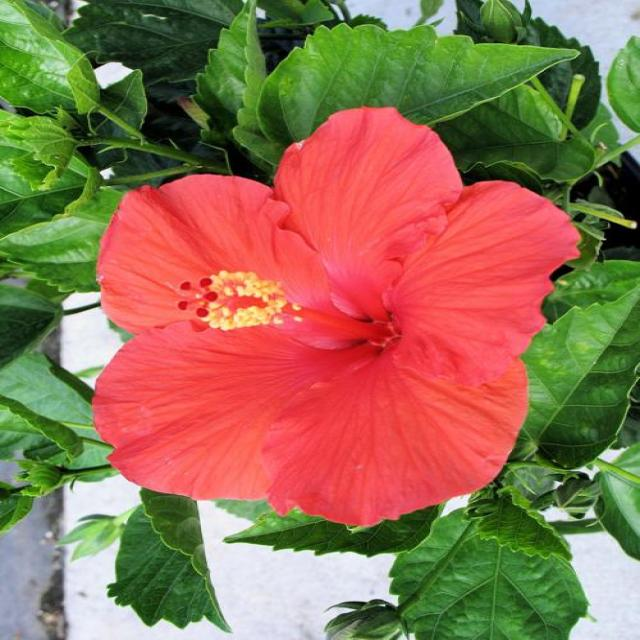hibiscus: (46, 74, 589, 556)
